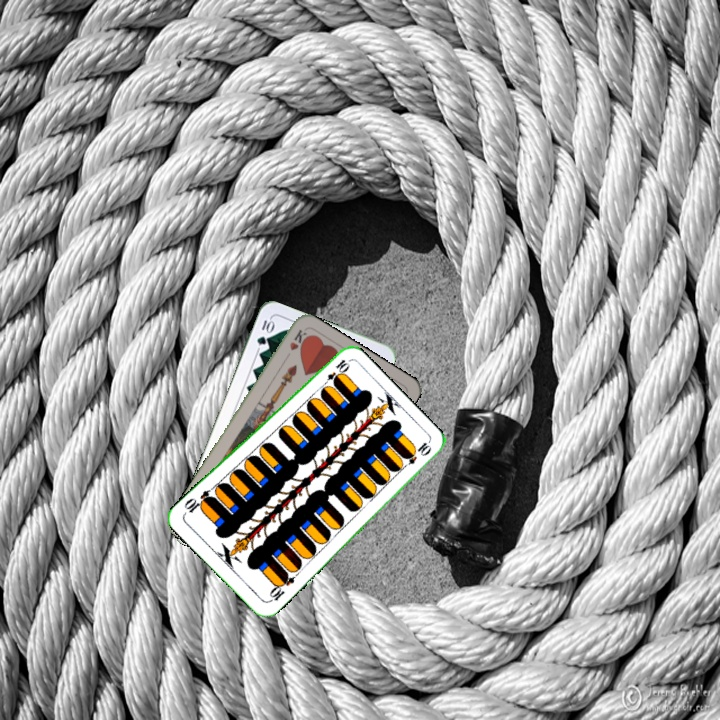E10: (265, 569, 297, 605), (318, 355, 350, 390)
G10: (253, 315, 276, 348)
HK: (285, 325, 309, 353)
